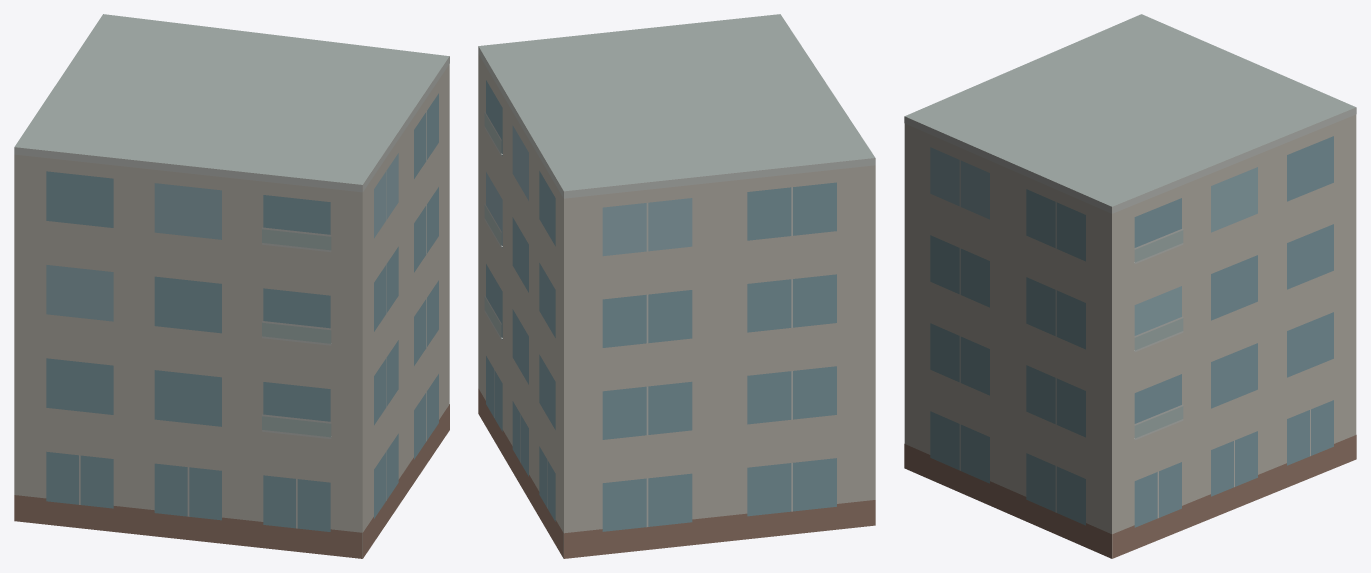
Rendered from survey-upis-32987806.glb.
3 views of the same model, side by side, from view 1: azimuth 30°, elevation 25°; view 2: azimuth 150°, elevation 25°; view 3: azimuth 270°, elevation 25° (orthographic). The views are drawn at different scales.
Parts seen in each view (by area): view 1: survey-upis-32987806.tmp; view 2: survey-upis-32987806.tmp; view 3: survey-upis-32987806.tmp.
Part boxes in pixels (left/top/right/bottom): survey-upis-32987806.tmp: left=14, top=14, right=449, bottom=558; survey-upis-32987806.tmp: left=478, top=14, right=875, bottom=558; survey-upis-32987806.tmp: left=904, top=14, right=1356, bottom=558.
Bounding box in the file's own units: 14.34 × 12.2 × 14.2.
